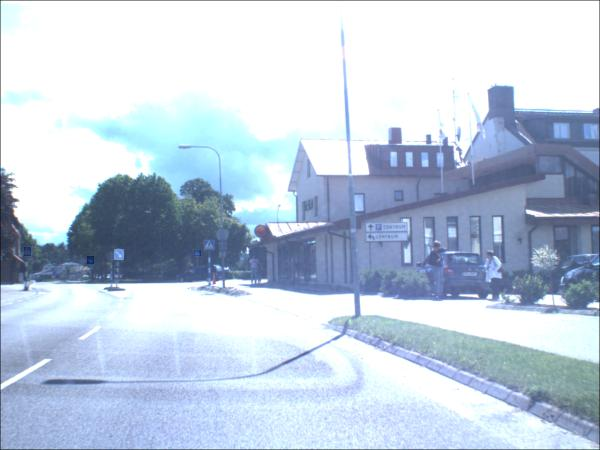PASS_RIGHT_SIDE: (115, 250, 126, 262), (88, 257, 96, 266)
PEDESTRIAN_CROSSING: (206, 242, 216, 252), (25, 248, 33, 258), (195, 251, 203, 258)
